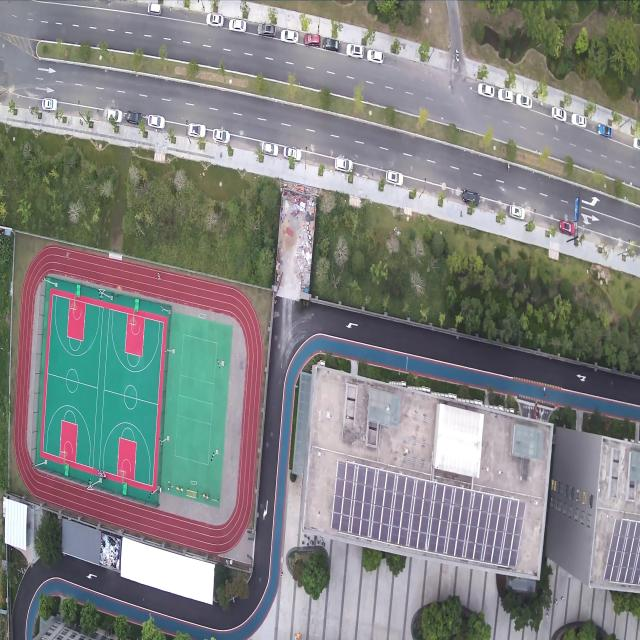drone: (65, 251, 71, 261)
